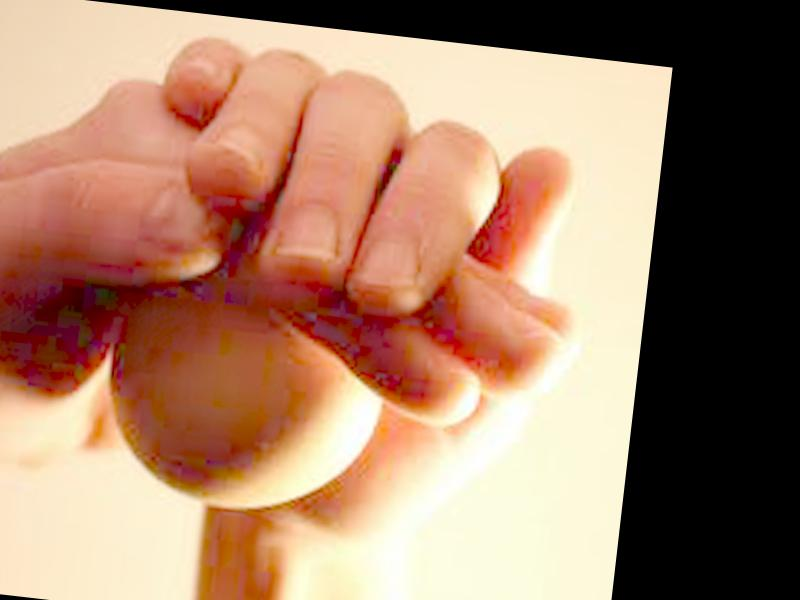Eggs: (93, 283, 391, 523)
